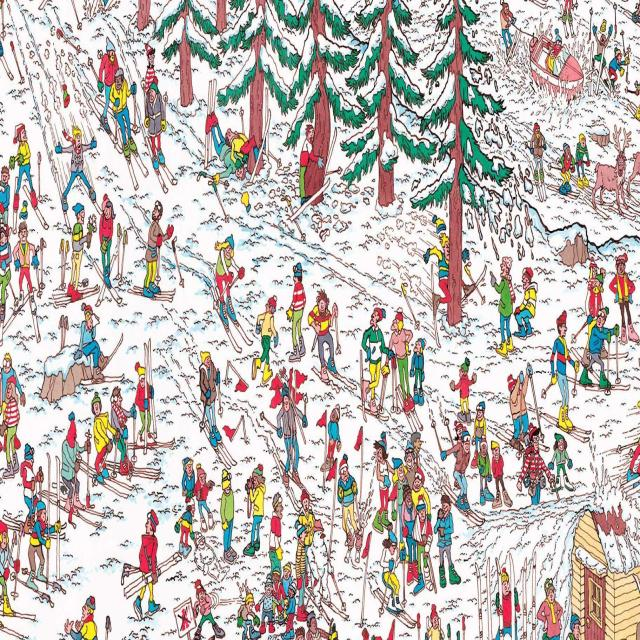waldo: (528, 422, 541, 452)
